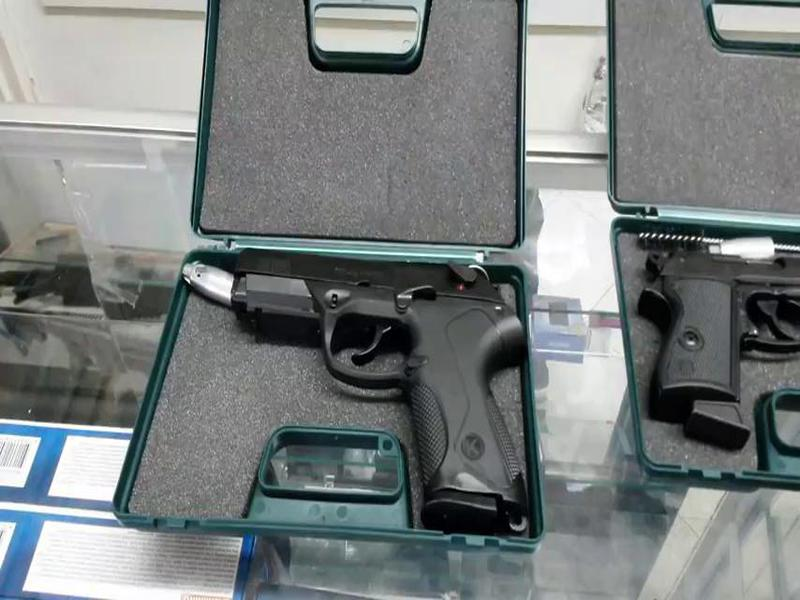Pistola: (226, 249, 541, 534)
